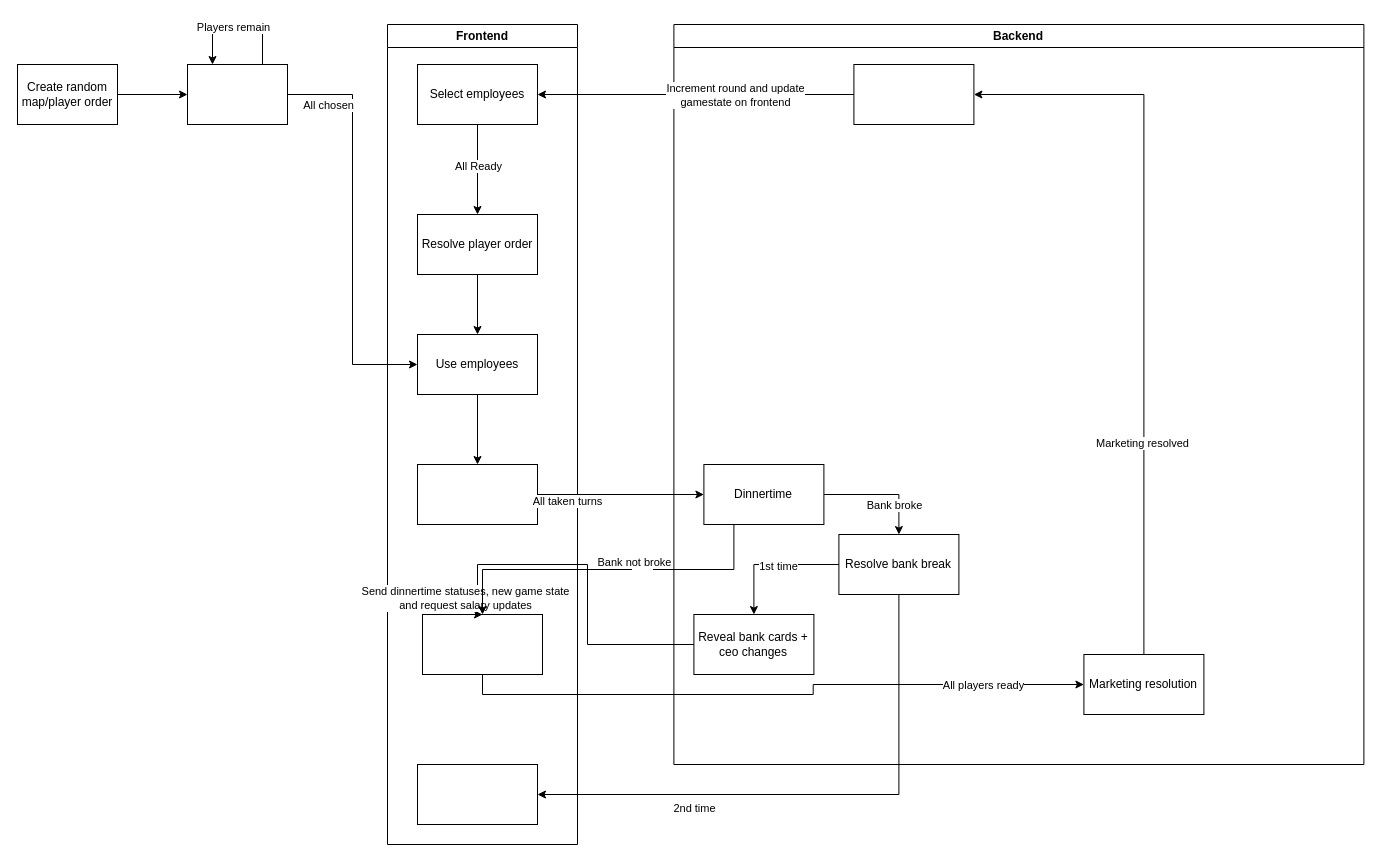
Image size: 1382x862. Some labels were removed from this diagram. The centre of each missing label's shape, as x and y in pixels:
"Game ends" goes at [477,794].
"Milestone resolution" goes at [913,94].
"Restaurant Selection" goes at [237,94].
"Salary resolution" goes at [482,644].
"Wait for other players" goes at [477,494].
